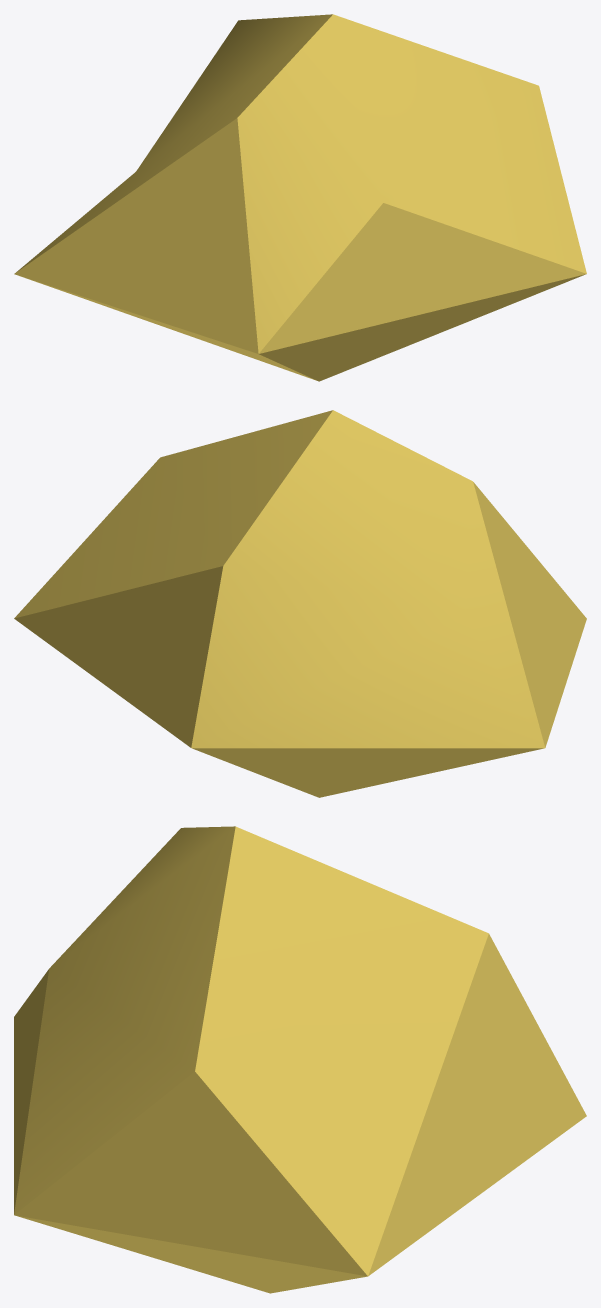
Rendered from Sand.fbx.
The picture shows the model from 3 angles, top to bottom: view 1: azimuth 30°, elevation 25°; view 2: azimuth 150°, elevation 25°; view 3: azimuth 270°, elevation 25°; orthographic projection. The views are drawn at different scales.
Parts seen in each view (by area): view 1: Icosphere.005; view 2: Icosphere.005; view 3: Icosphere.005.
Part boxes in pixels (box(x1,y1,x2,y2)): Icosphere.005: box(14, 14, 586, 381); Icosphere.005: box(14, 410, 586, 797); Icosphere.005: box(14, 826, 586, 1293).
Bounding box in the file's own units: 399 × 271 × 301.
